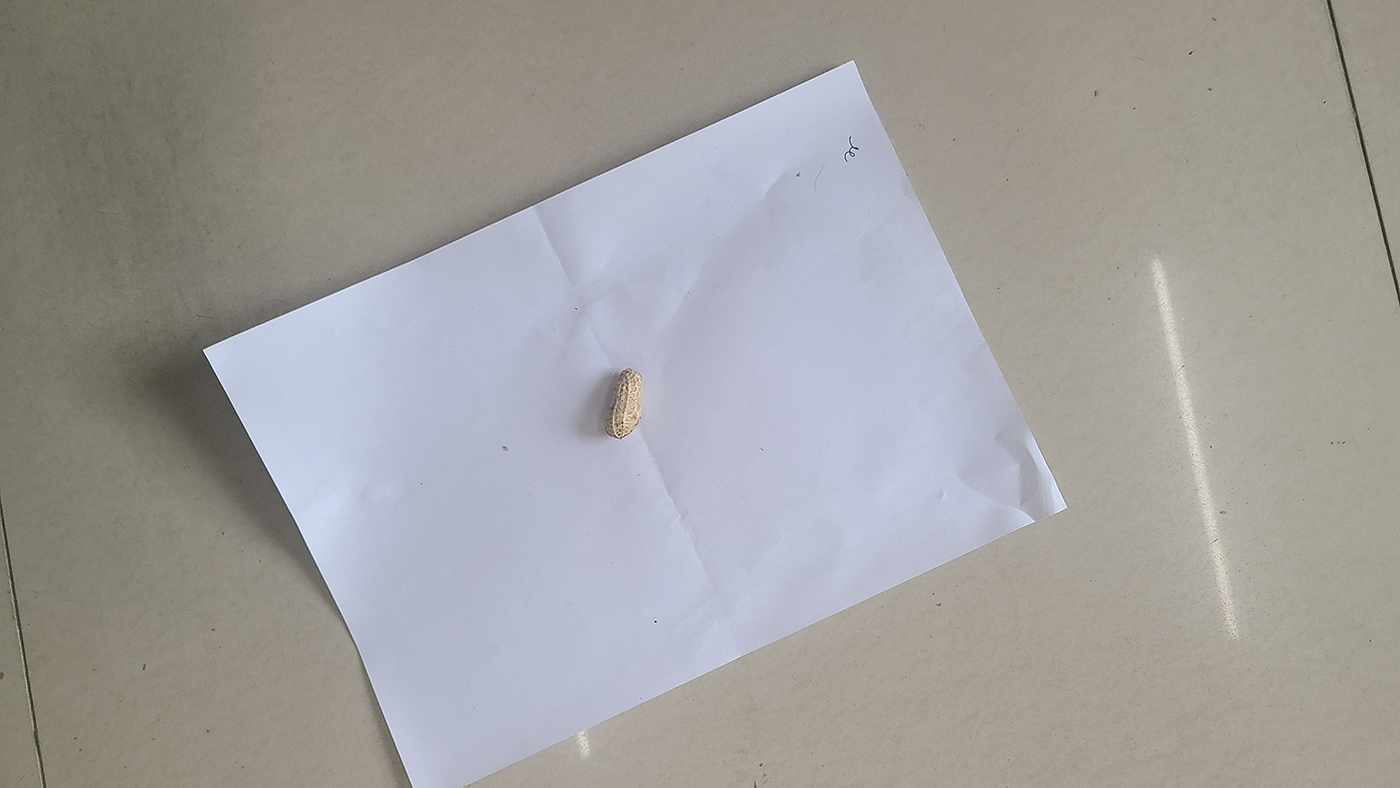h: (603, 367, 643, 440)
